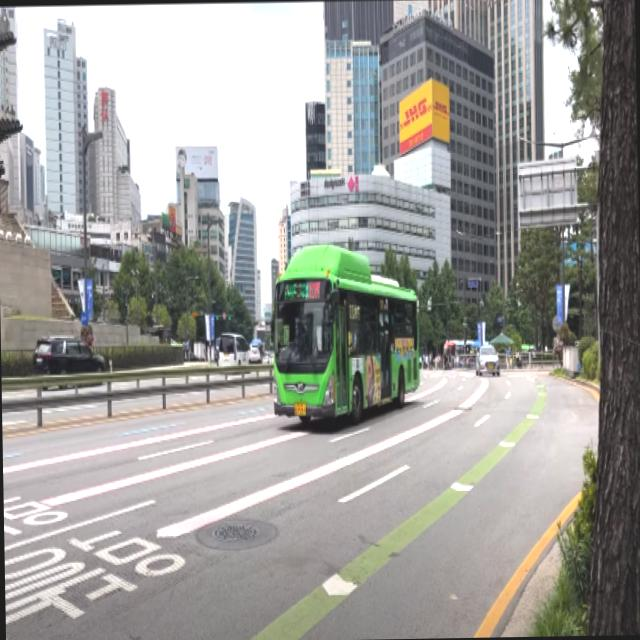bus-number: (308, 280, 320, 300)
